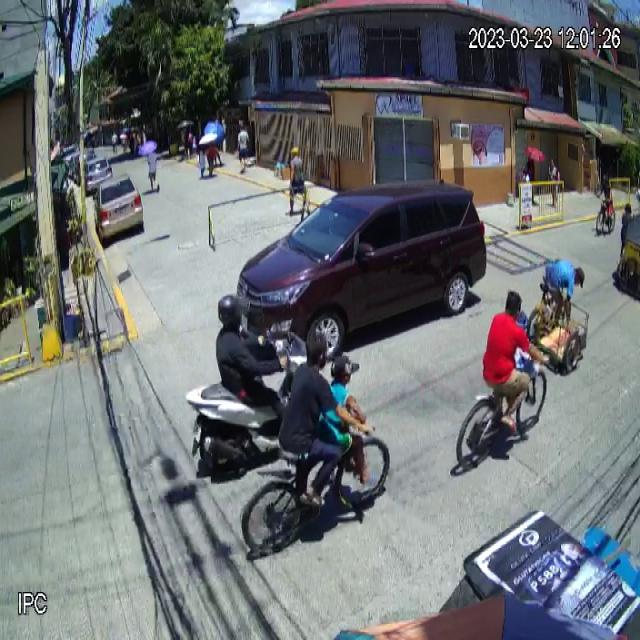Car: (233, 178, 487, 366)
